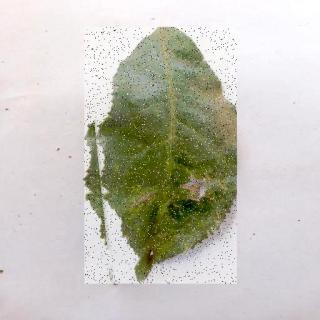Algal Leaf: (85, 28, 238, 285)
